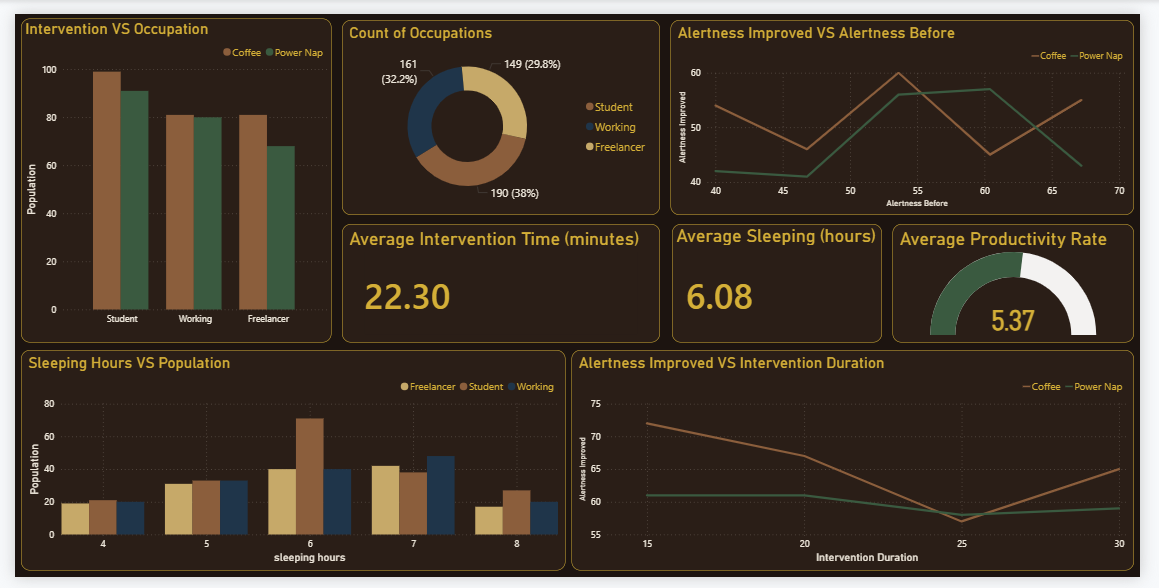

What the dashboard file says about the page in this screenshot:
{"tool":"powerbi","page":{"name":"Page 1","canvas":[1500,750],"ordinal":0},"visuals":[{"type":"clusteredColumnChart","title":"Intervention VS Occupation","fields":{"Series":["power_nap_vs_coffee_effectiveness_dataset.intervention_type"],"Category":["power_nap_vs_coffee_effectiveness_dataset.occupation"],"Y":["CountNonNull(power_nap_vs_coffee_effectiveness_dataset.participant_id)"]},"box":[8,6,414,432],"z":0},{"type":"clusteredColumnChart","title":"Sleeping Hours VS Population","fields":{"Category":["power_nap_vs_coffee_effectiveness_dataset.sleep_hours_previous_night"],"Series":["power_nap_vs_coffee_effectiveness_dataset.occupation"],"Y":["CountNonNull(power_nap_vs_coffee_effectiveness_dataset.participant_id)"]},"box":[8,448,726,294],"z":1000},{"type":"lineChart","title":"Alertness Improved VS Alertness Before","fields":{"Y":["Sum(power_nap_vs_coffee_effectiveness_dataset.alertness_improve)"],"Category":["power_nap_vs_coffee_effectiveness_dataset.alertness_score_before (bins)"],"Series":["power_nap_vs_coffee_effectiveness_dataset.intervention_type"]},"box":[874,8,618,260],"z":2000},{"type":"donutChart","title":"Count of Occupations","fields":{"Y":["CountNonNull(power_nap_vs_coffee_effectiveness_dataset.occupation)"],"Category":["power_nap_vs_coffee_effectiveness_dataset.occupation"]},"box":[436,8,424,260],"z":3000},{"type":"lineChart","title":"Alertness Improved VS Intervention Duration ","fields":{"Y":["CountNonNull(power_nap_vs_coffee_effectiveness_dataset.alertness_improve)"],"Category":["power_nap_vs_coffee_effectiveness_dataset.intervention_duration_minutes"],"Series":["power_nap_vs_coffee_effectiveness_dataset.intervention_type"]},"box":[742,448,750,294],"z":4000},{"type":"gauge","title":"Average Productivity Rate","fields":{"Y":["Avg(power_nap_vs_coffee_effectiveness_dataset.productivity_rating)"]},"box":[1170,280,322,158],"z":5000},{"type":"cardVisual","title":"Average Sleeping (hours)","fields":{"Data":["Avg(power_nap_vs_coffee_effectiveness_dataset.sleep_hours_previous_night)"]},"box":[876,280,280,158],"z":6000},{"type":"cardVisual","title":"Average Intervention Time (minutes)","fields":{"Data":["Avg(power_nap_vs_coffee_effectiveness_dataset.intervention_duration_minutes)"]},"box":[436,280,424,158],"z":7000}]}

Visuals, with their boxes in screenshot pixels (x1, y1, x2, y2), scaled from the page's 1500x750 canvas onto the 1159x588 screenshot:
"Intervention VS Occupation" clusteredColumnChart: {"x1": 6, "y1": 5, "x2": 326, "y2": 343}
"Sleeping Hours VS Population" clusteredColumnChart: {"x1": 6, "y1": 351, "x2": 567, "y2": 582}
"Alertness Improved VS Alertness Before" lineChart: {"x1": 675, "y1": 6, "x2": 1153, "y2": 210}
"Count of Occupations" donutChart: {"x1": 337, "y1": 6, "x2": 664, "y2": 210}
"Alertness Improved VS Intervention Duration " lineChart: {"x1": 573, "y1": 351, "x2": 1153, "y2": 582}
"Average Productivity Rate" gauge: {"x1": 904, "y1": 220, "x2": 1153, "y2": 343}
"Average Sleeping (hours)" cardVisual: {"x1": 677, "y1": 220, "x2": 893, "y2": 343}
"Average Intervention Time (minutes)" cardVisual: {"x1": 337, "y1": 220, "x2": 664, "y2": 343}
